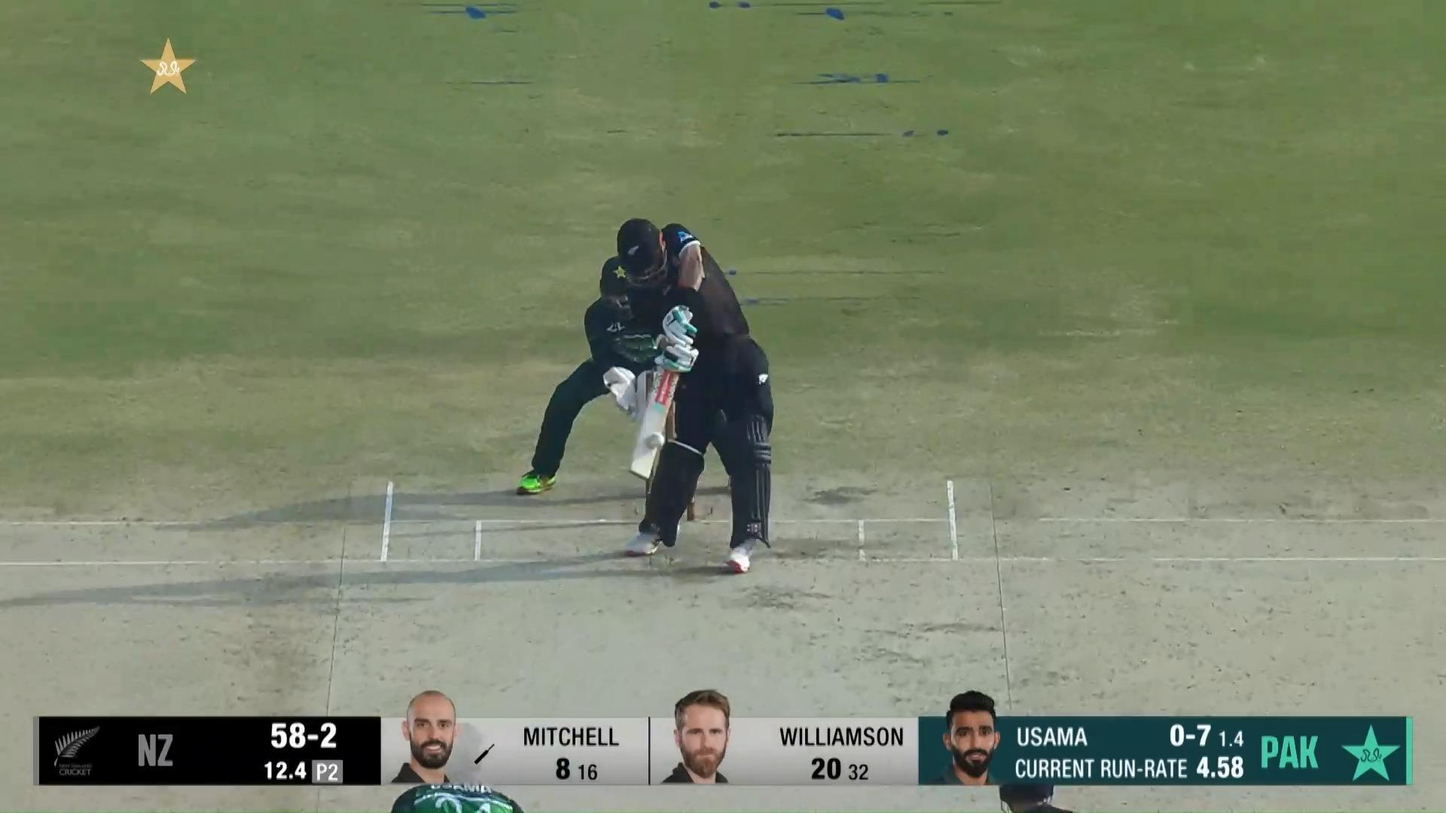BM 1: (616, 216, 775, 572)
BO: (392, 722, 531, 811)
